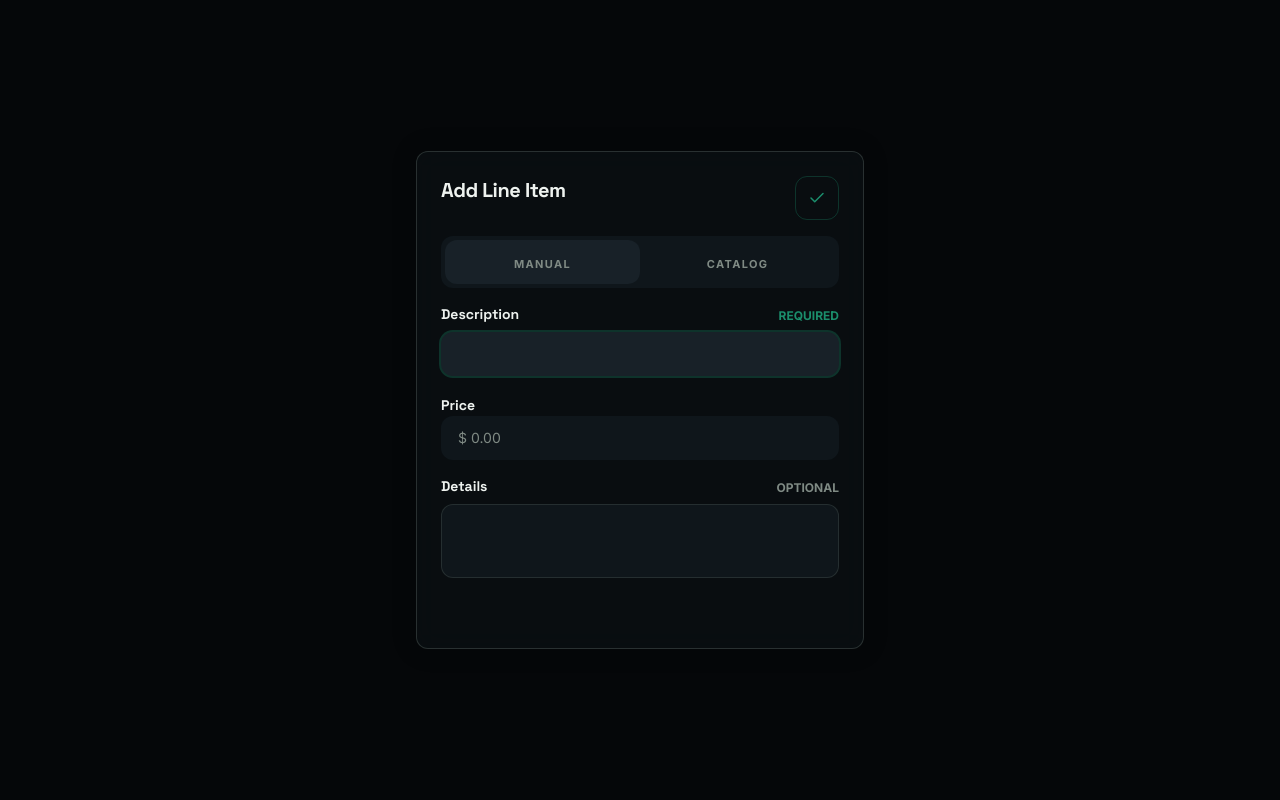
Test case: LineItemEditSheet › add mode add button validates blank description
Click the button named "add line item".
click(817, 198)  # box [795, 176, 839, 220]
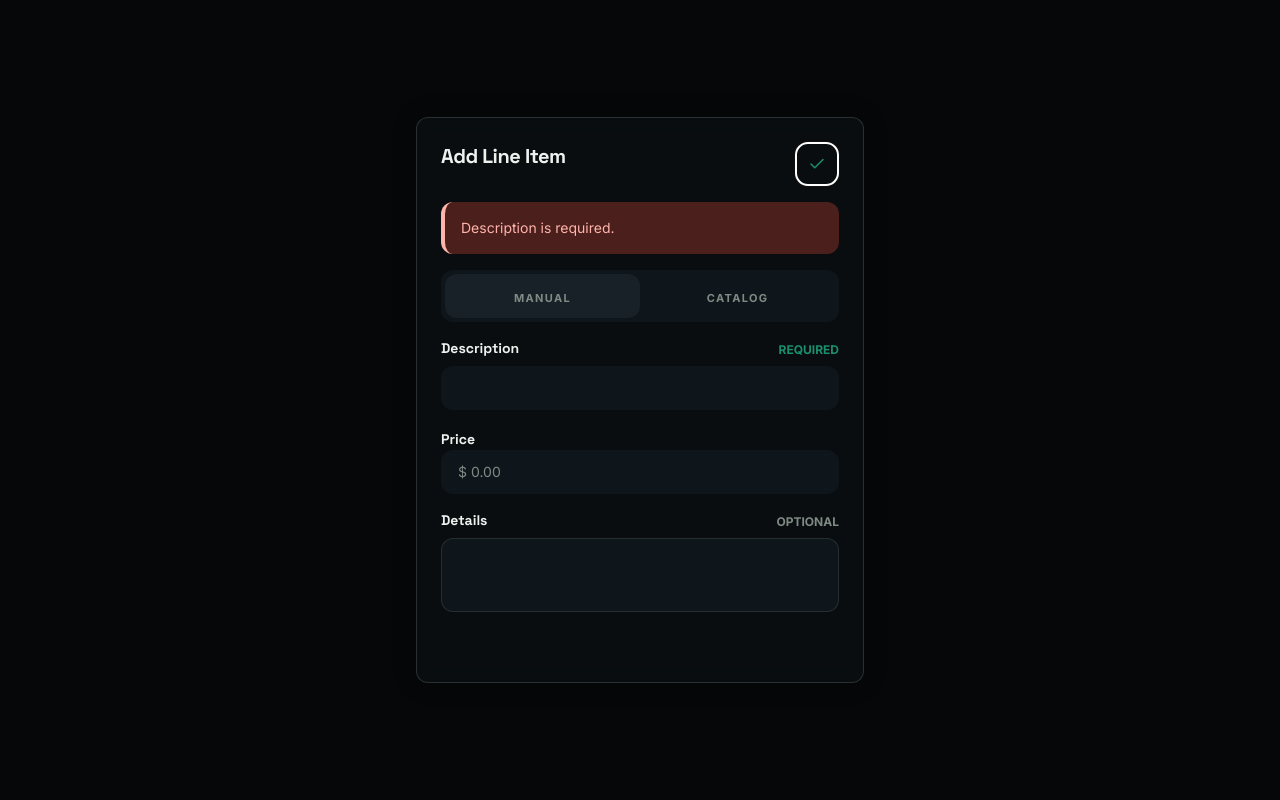
Result: the message reads "Description is required." at [461, 219, 615, 236]
